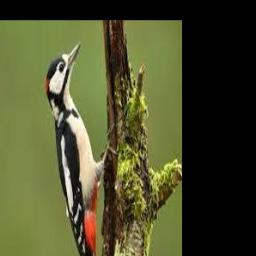Woodpecker: (46, 40, 119, 256)
